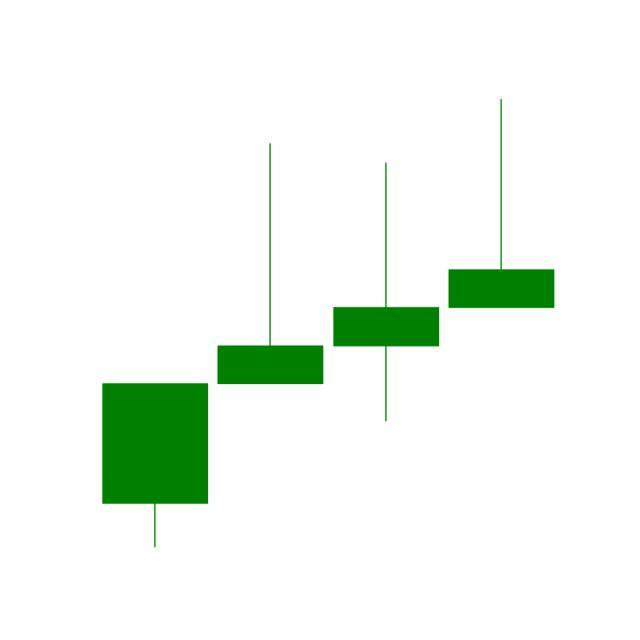Spinning Top: (329, 161, 445, 426)
